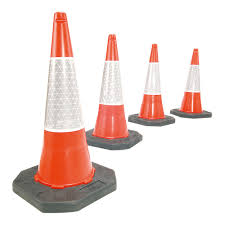cones: (13, 12, 120, 214), (88, 32, 144, 153), (130, 40, 176, 127), (178, 46, 214, 126)
